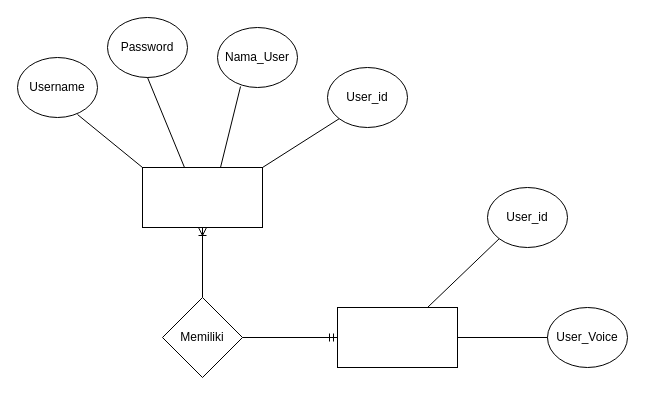
Image size: 645x395. Some labels were removed from this diagram. The centre of each missing label's shape, as x and y in pixels:
"Login" belongs at (x=202, y=197).
"Otentikasi" belongs at (x=397, y=337).
